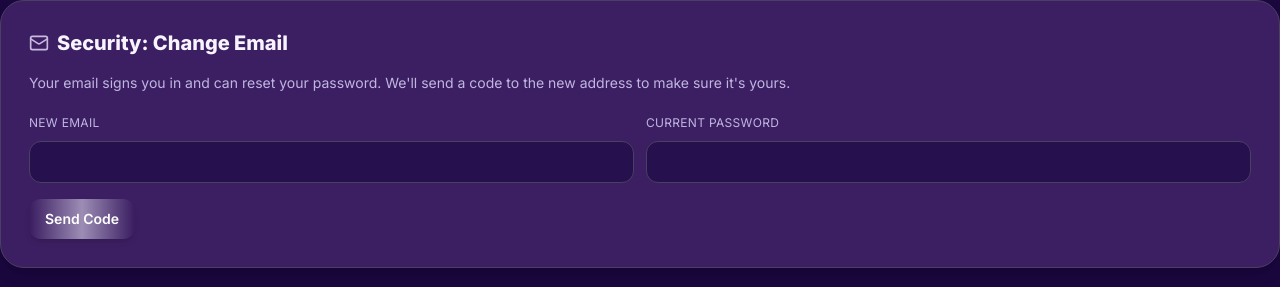
Test: changing the email › goes back to the form to use a different address
Type "new@example.com" into the field labelled "New Email" at x=332, y=162, box [29,141,634,183]
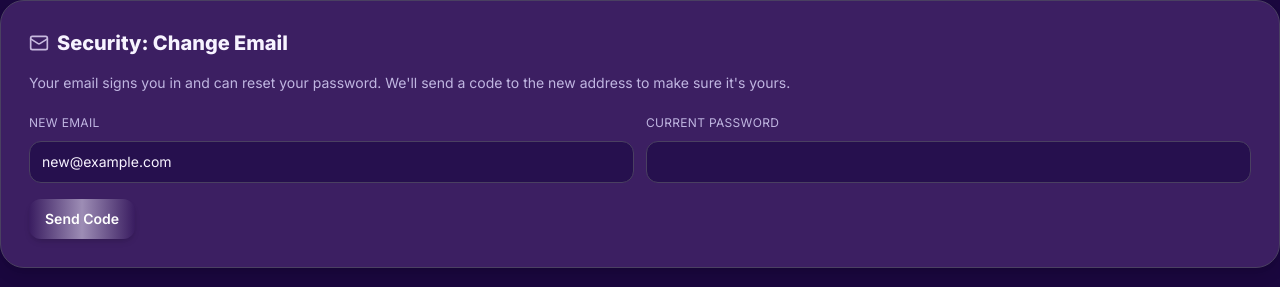
Type "Secret123" into the password field labelled "Current Password" at x=948, y=162, box [646,141,1251,183]
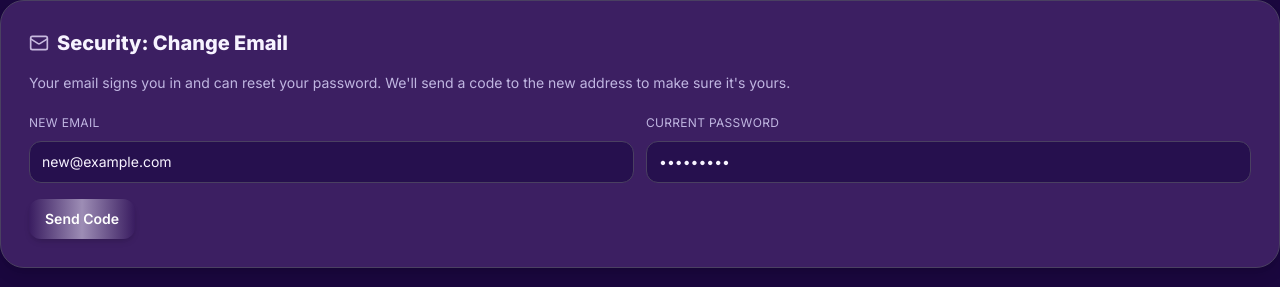
Click the button "Send Code" at x=82, y=219, box [29,199,135,239]
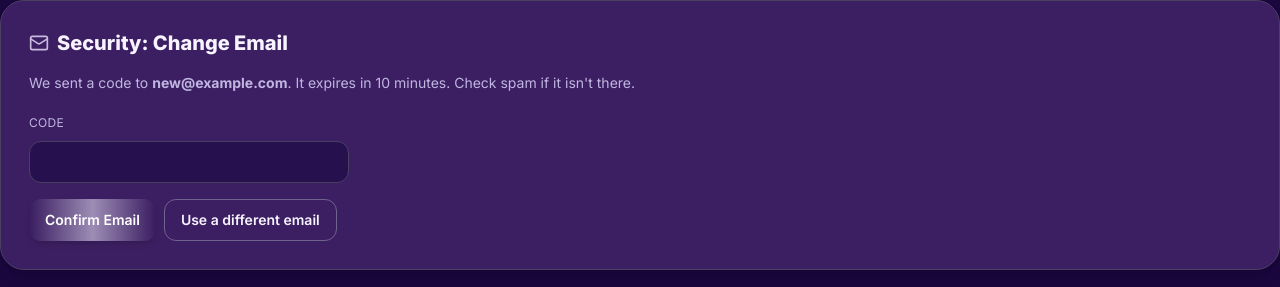
expect the text "We sent a code to" is shown: met, box [29,74,152,91]
Click the button "Use a different email" at x=250, y=220, box [164,199,337,241]
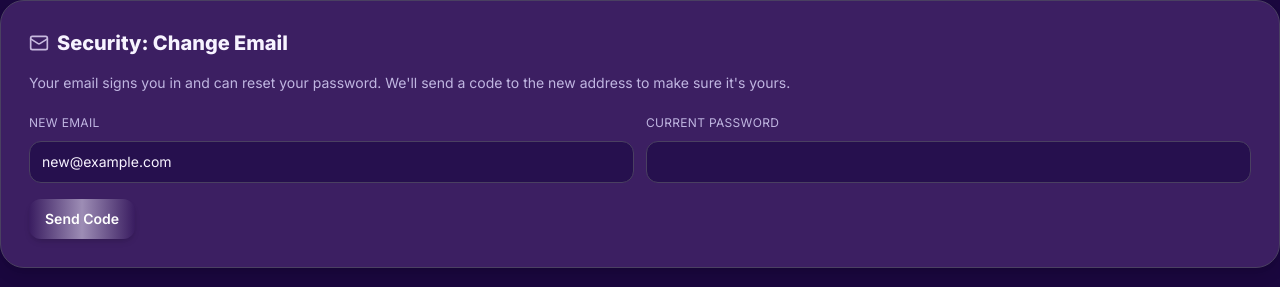
expect the button "Send Code" is shown: met, box [29,199,135,239]
